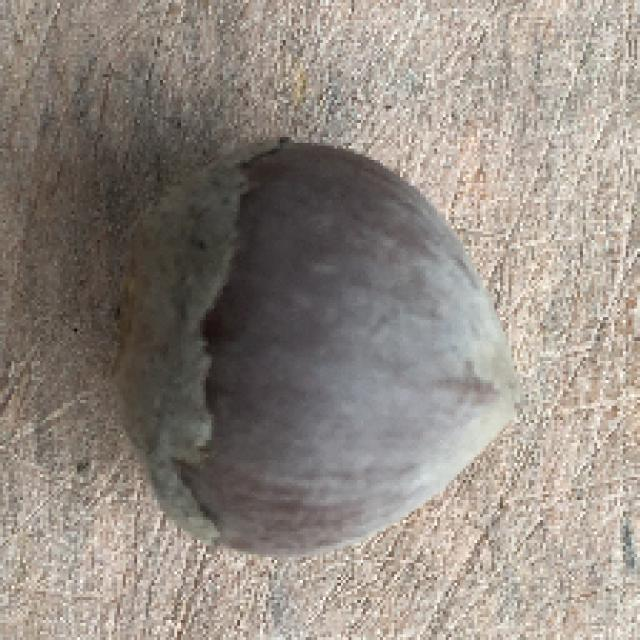damagedHazelnut: (99, 124, 522, 562)
